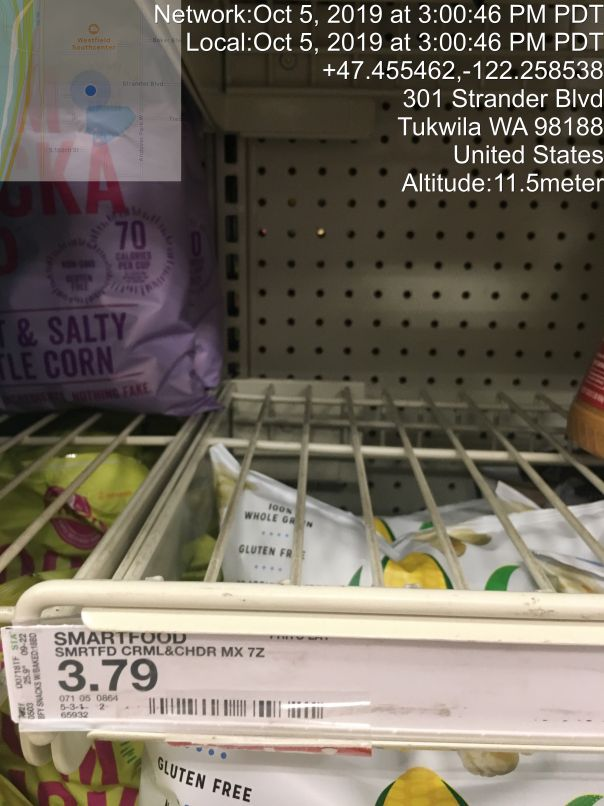Label: (7, 626, 334, 735)
Location: (391, 83, 604, 171)
Time: (151, 2, 604, 54)
Void: (230, 106, 574, 569)
